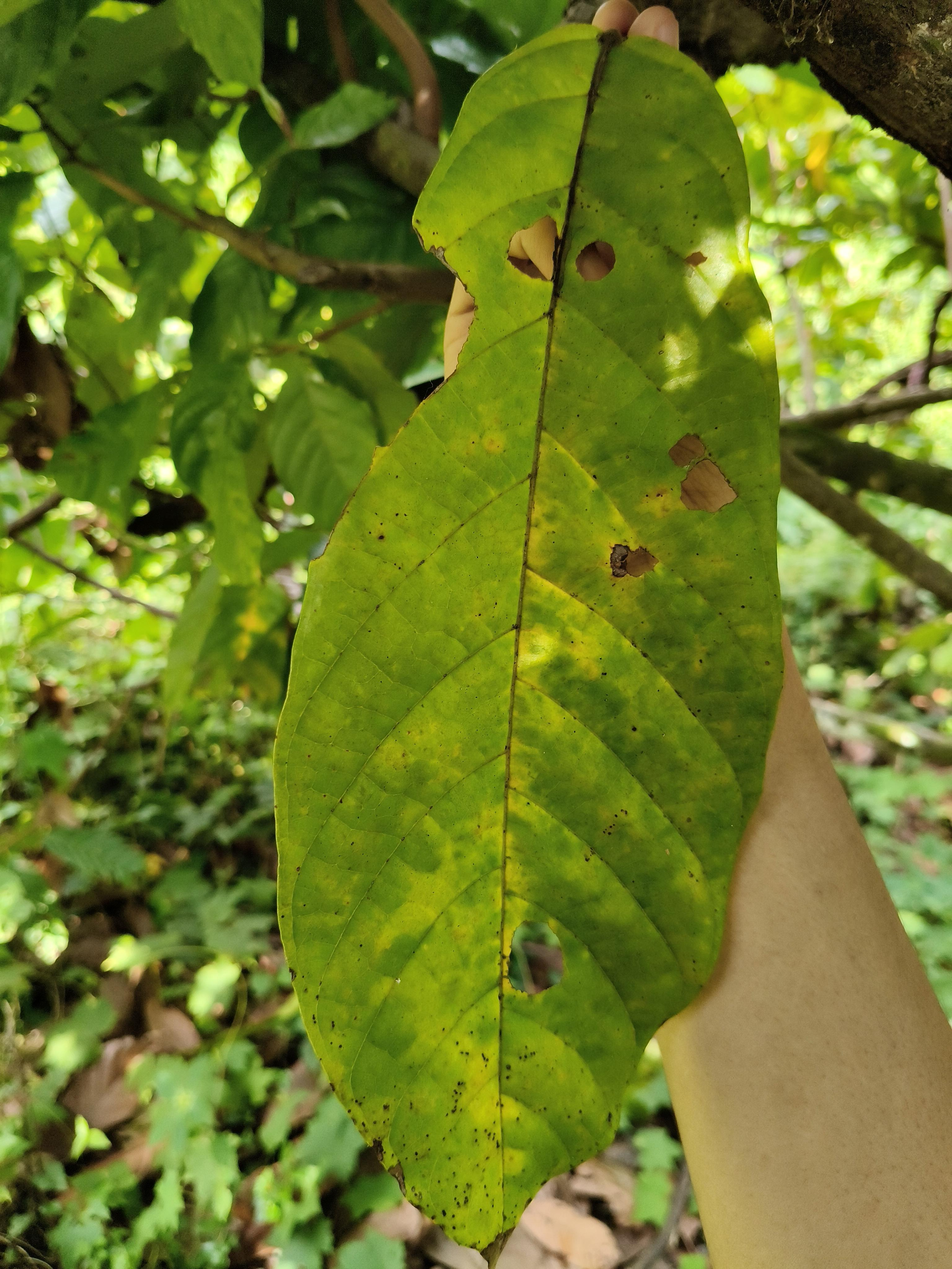deficiencia_potasio: (272, 31, 797, 1263)
